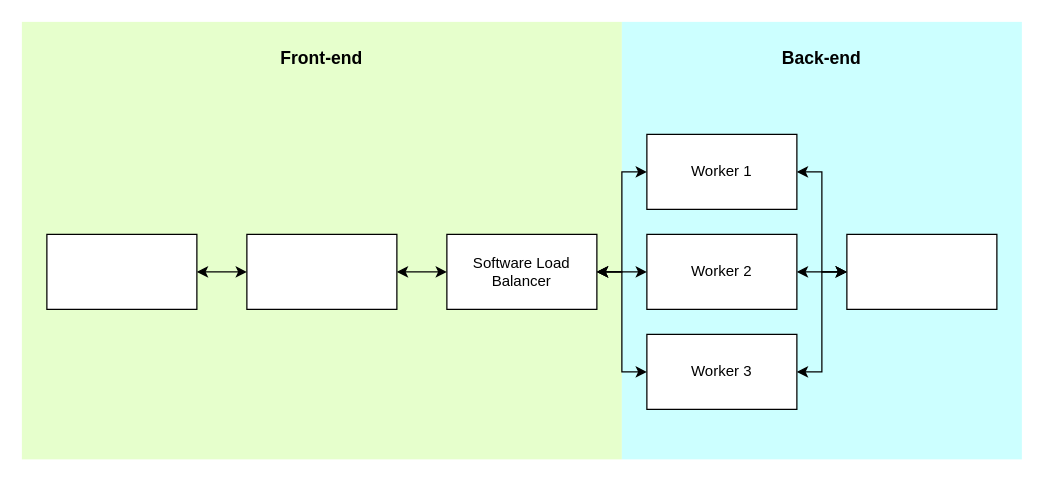
Image size: 1043x480. Some labels were removed from this diagram. The shapes that lost their labels are listed below. From the top down, each one's centre as x and y in pixels, then its label:
point (121, 271): User Clients
point (321, 271): Internet
point (921, 271): Database
